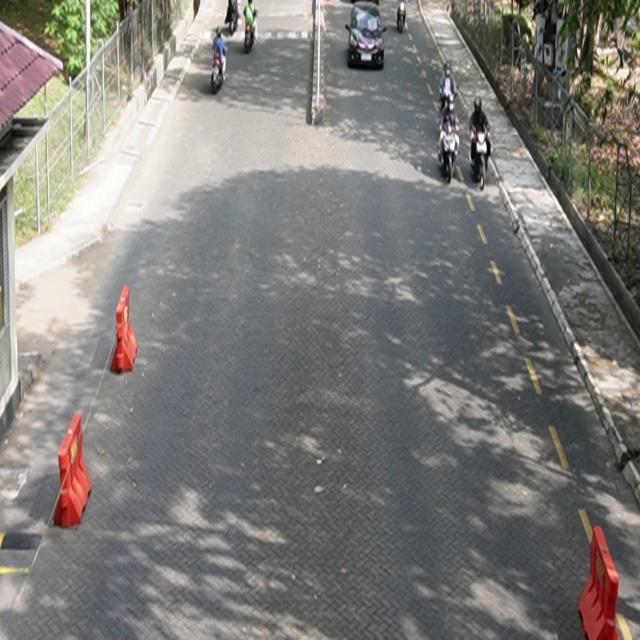car: (346, 2, 388, 70)
